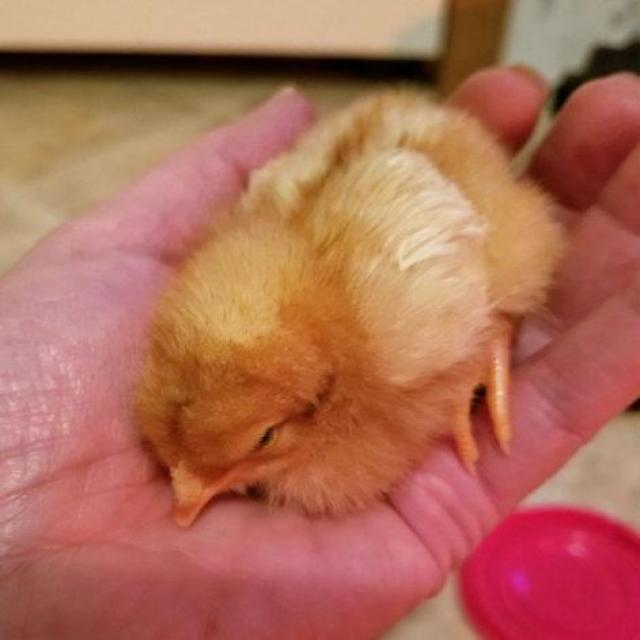poussin: (135, 80, 535, 535)
